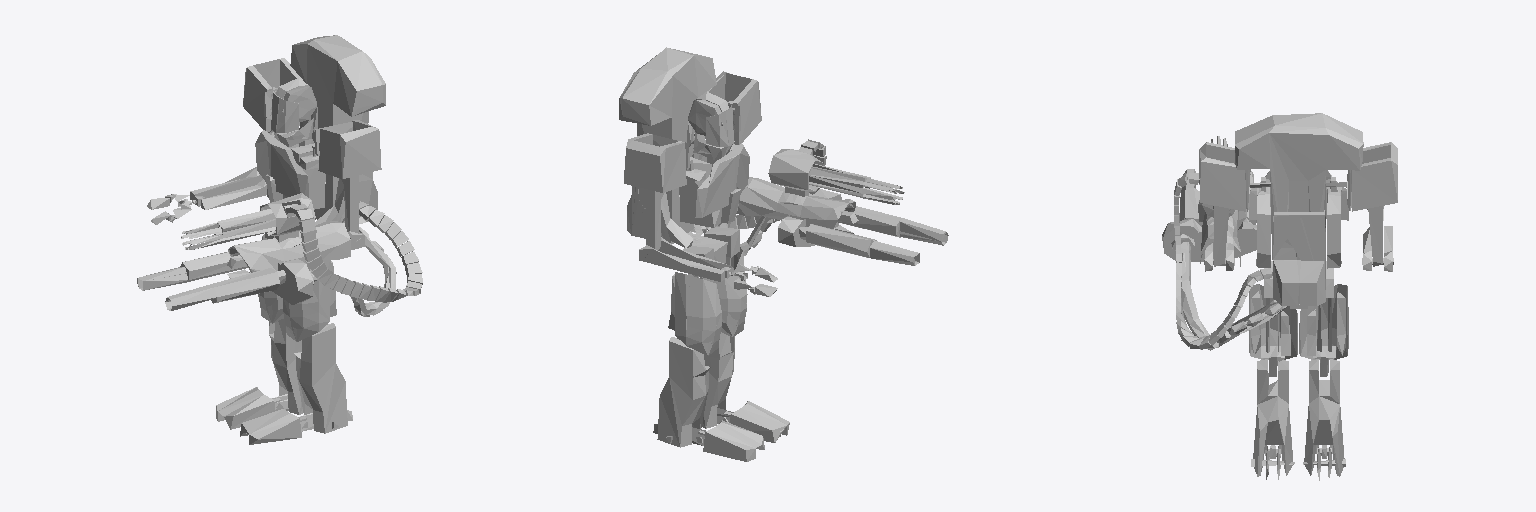
File: robot.obj
3 views of the same model, side by side, from view 1: azimuth 30°, elevation 25°; view 2: azimuth 150°, elevation 25°; view 3: azimuth 270°, elevation 25° (orthographic).
Parts seen in each view (by area): view 1: Mesh.001_Mesh_ACR_obj.obj; view 2: Mesh.001_Mesh_ACR_obj.obj; view 3: Mesh.001_Mesh_ACR_obj.obj.
Part boxes in pixels (bbox=[...]): Mesh.001_Mesh_ACR_obj.obj: bbox=[137, 35, 422, 444]; Mesh.001_Mesh_ACR_obj.obj: bbox=[619, 47, 948, 461]; Mesh.001_Mesh_ACR_obj.obj: bbox=[1162, 113, 1397, 480].
Bounding box in the file's own units: 4.61 × 6.03 × 3.57.